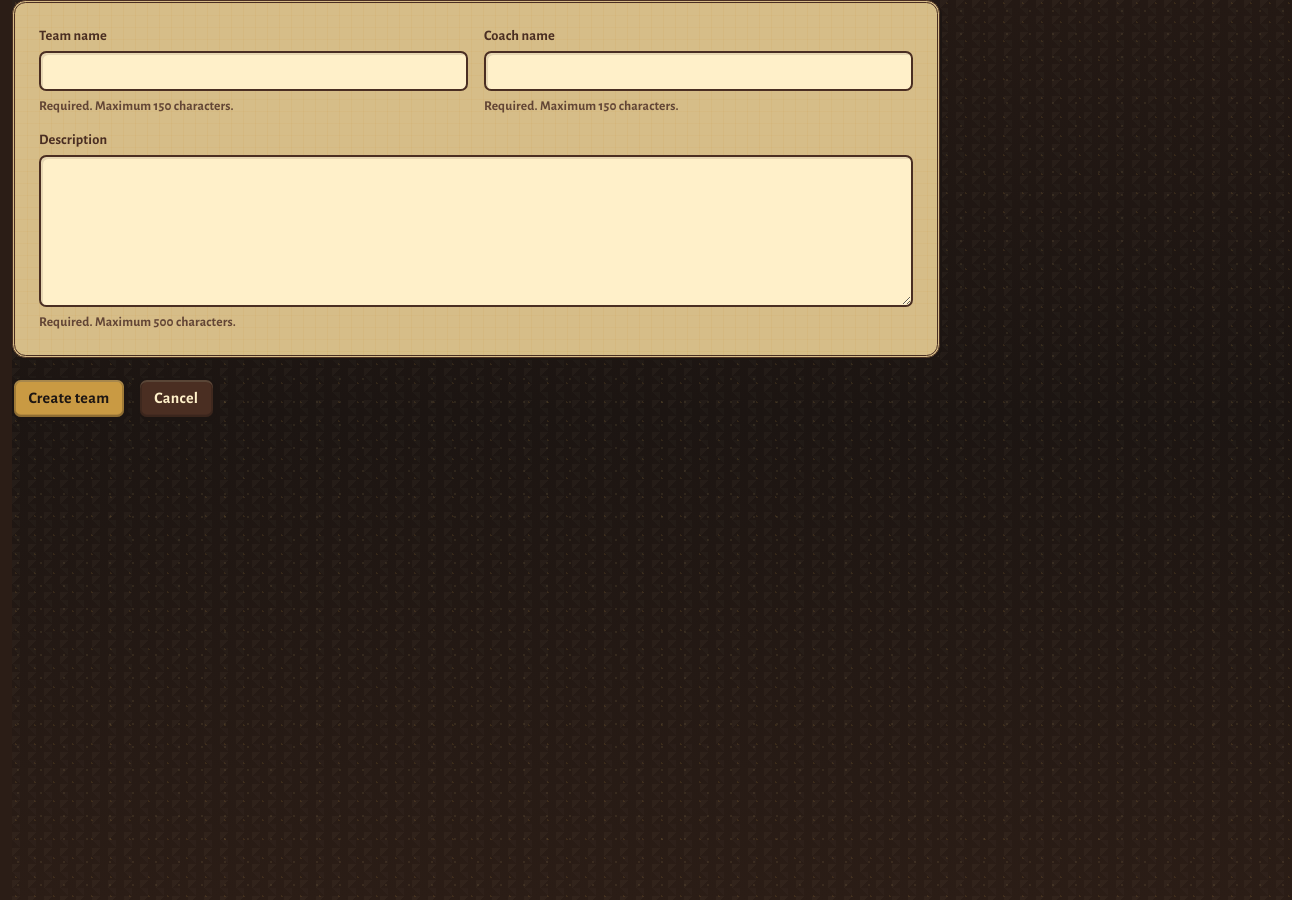
TeamForm › shows validation errors for empty values
Click the button "Create team". click: (69, 398)
box: [12,378,126,419]
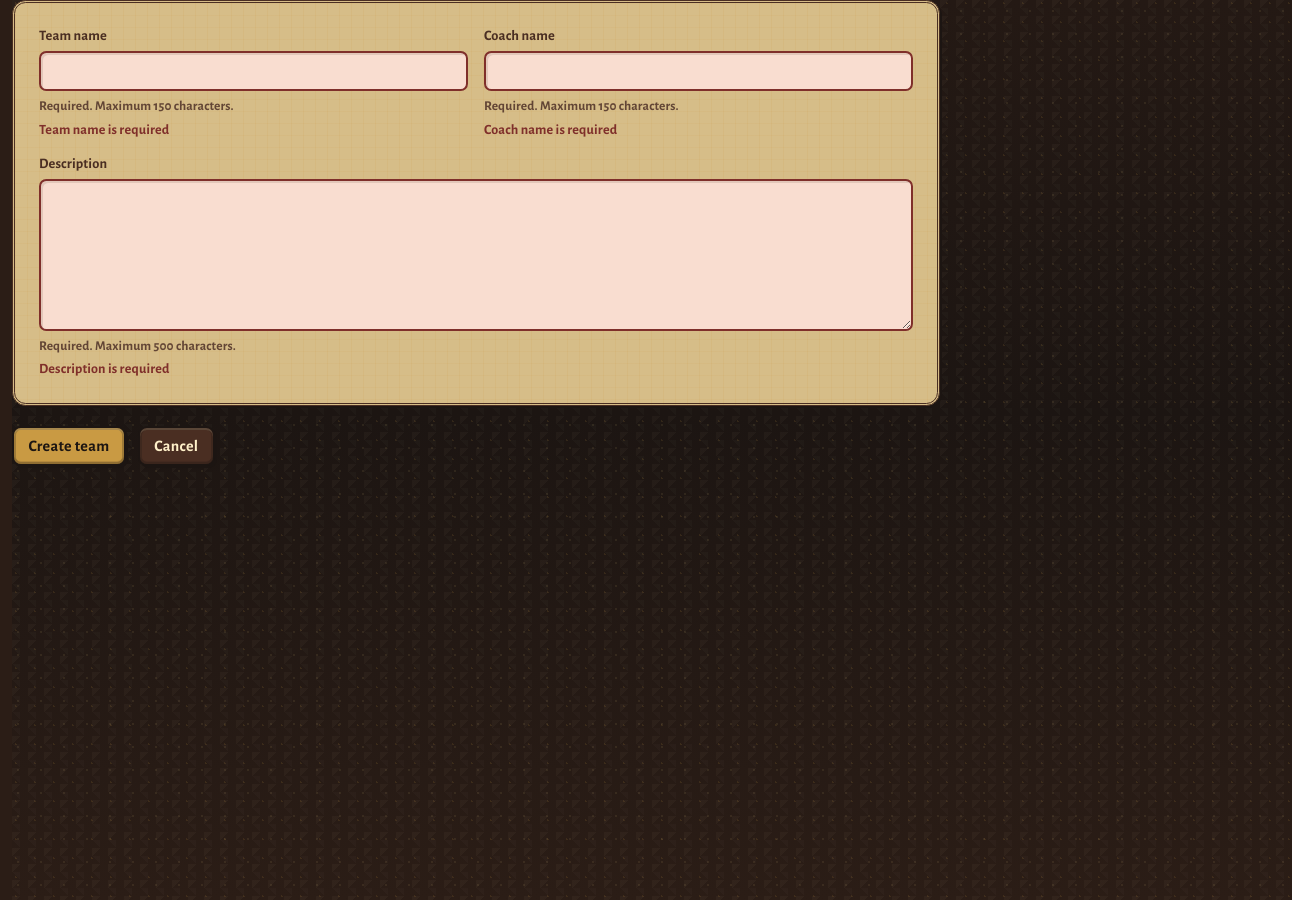
Expected: the text "Team name is required" is shown, [39,123,169,137]
Expected: the text "Description is required" is shown, [39,362,170,376]
Expected: the text "Coach name is required" is shown, [484,123,617,137]
